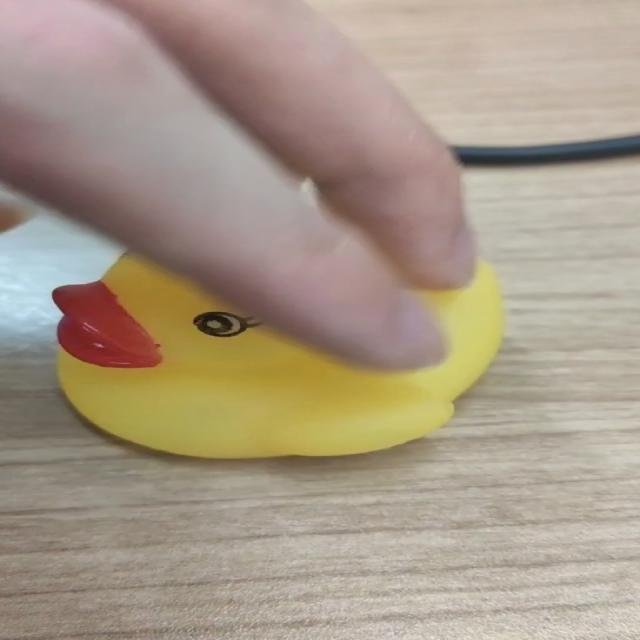rubber-duck: (52, 254, 501, 456)
